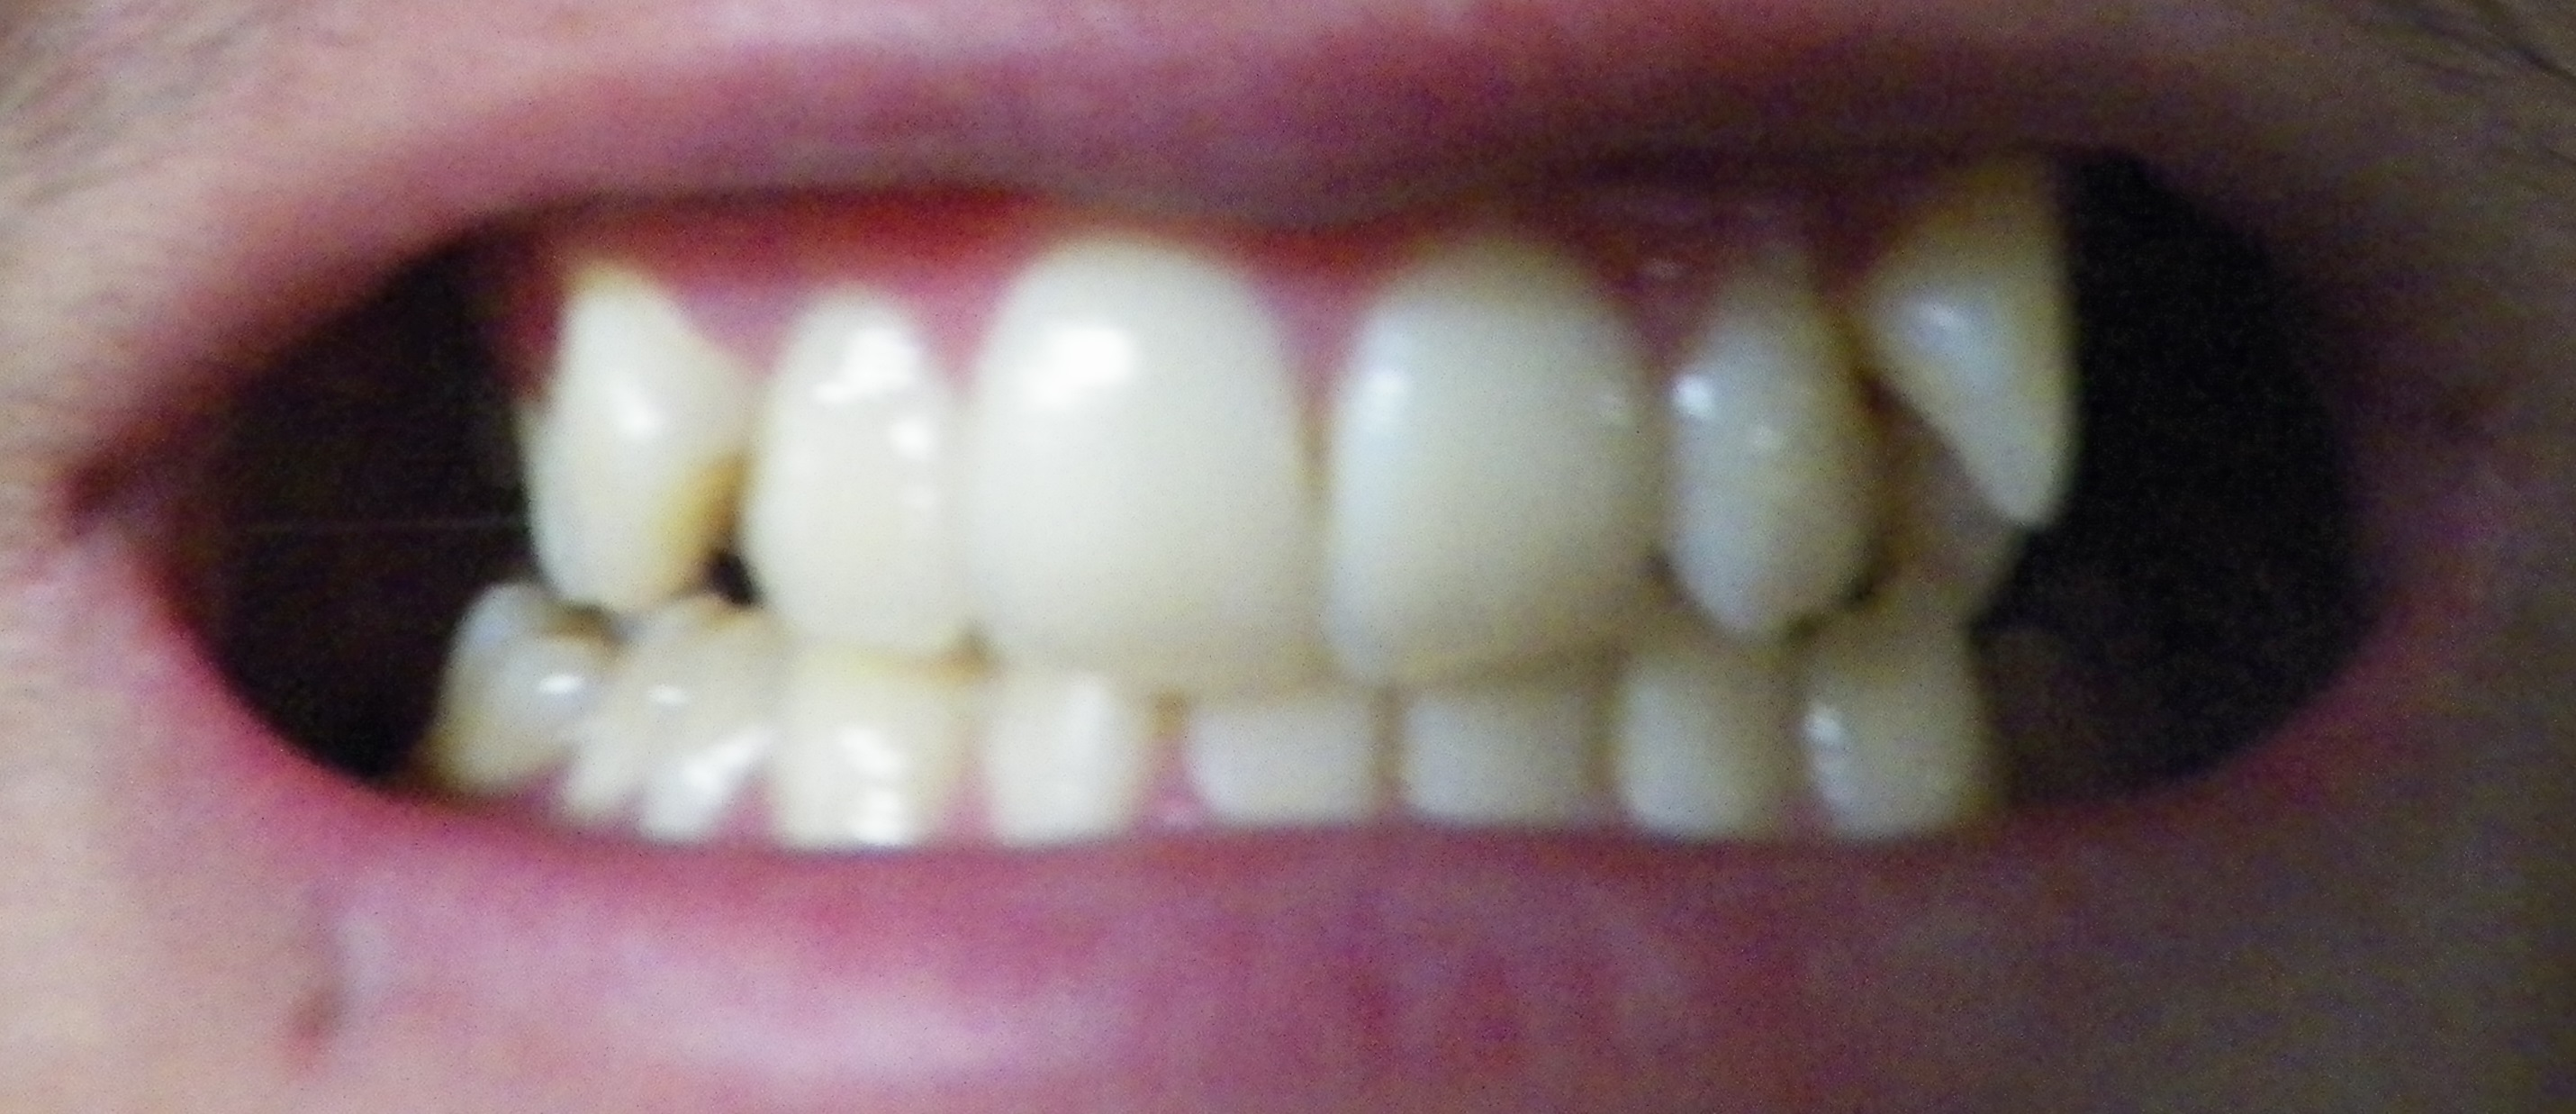boca: (437, 200, 2072, 840)
